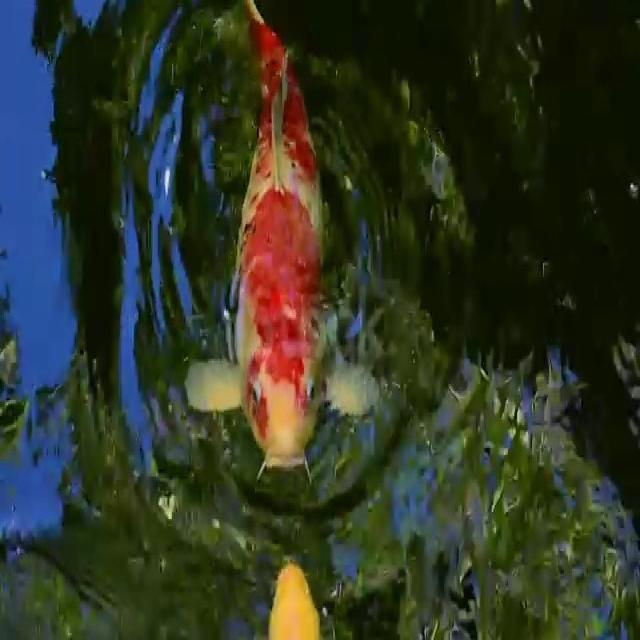fish: (175, 6, 389, 493)
